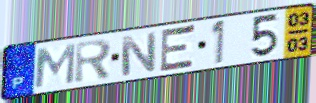1: (210, 18, 228, 67)
5: (249, 11, 282, 60)
E: (157, 23, 198, 75)
M: (33, 42, 78, 90)
N: (119, 30, 158, 78)
R: (74, 37, 115, 86)
